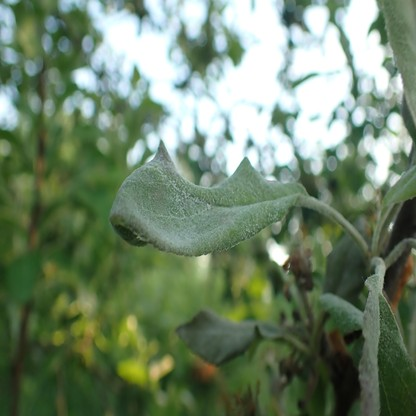powder: (110, 140, 301, 256), (359, 276, 416, 414), (379, 1, 416, 120)
